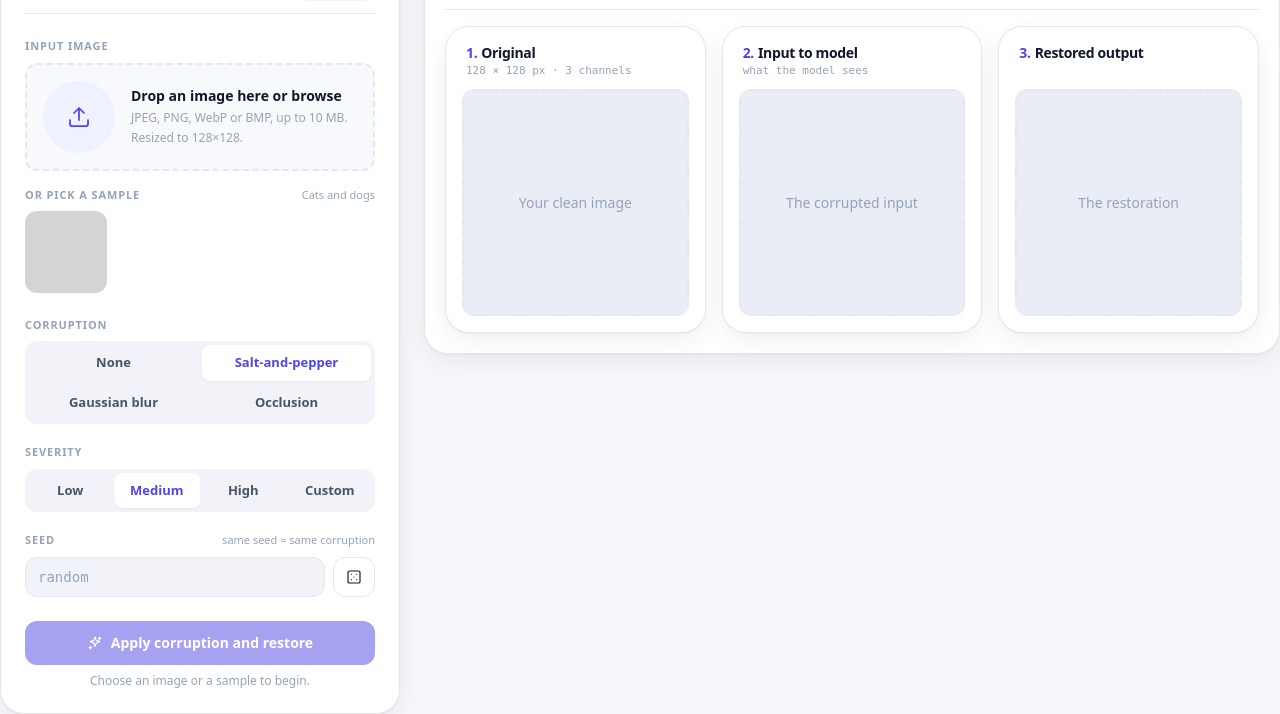
it: Universal Restoration workspace › the dice button fills in a random seed
The image size is (1280, 714).
(page scrolled)
Check: the number field named "Seed" is not empty, box [25, 557, 325, 597]
Click the button named "Random seed" at [354, 577], box [333, 557, 375, 597]
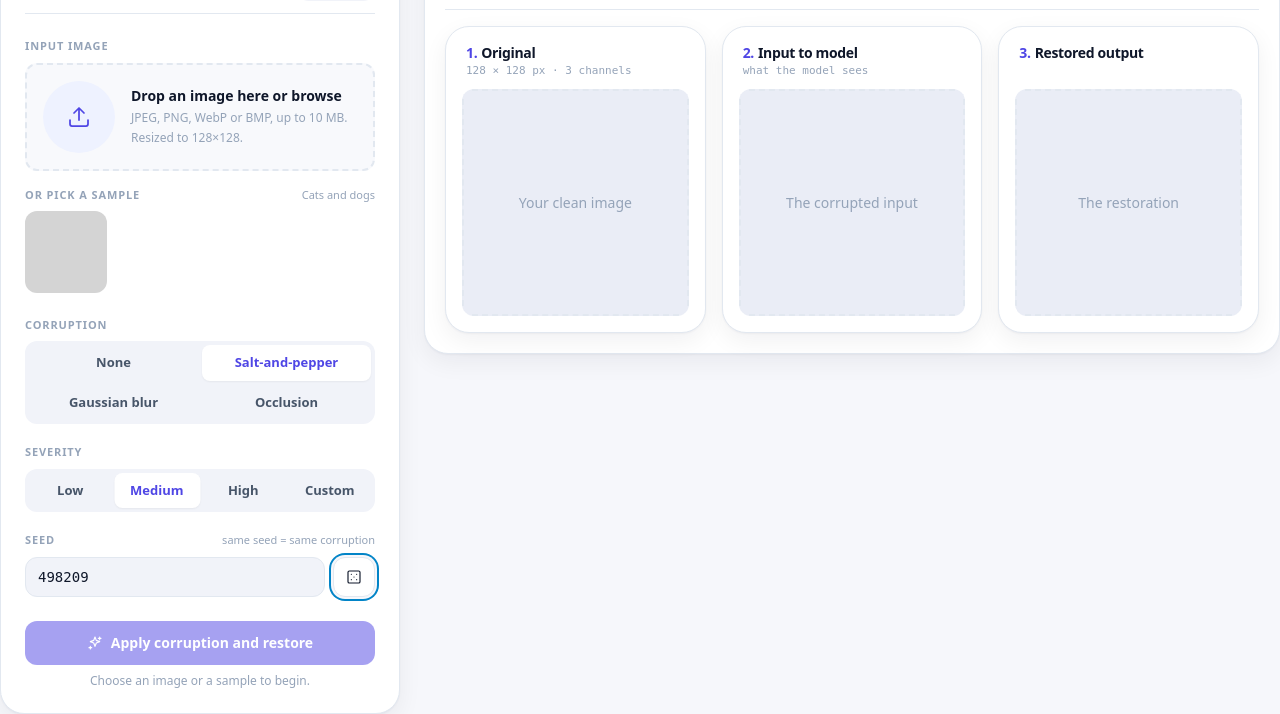
Check: the number field named "Seed" is not empty, box [25, 557, 325, 597]
